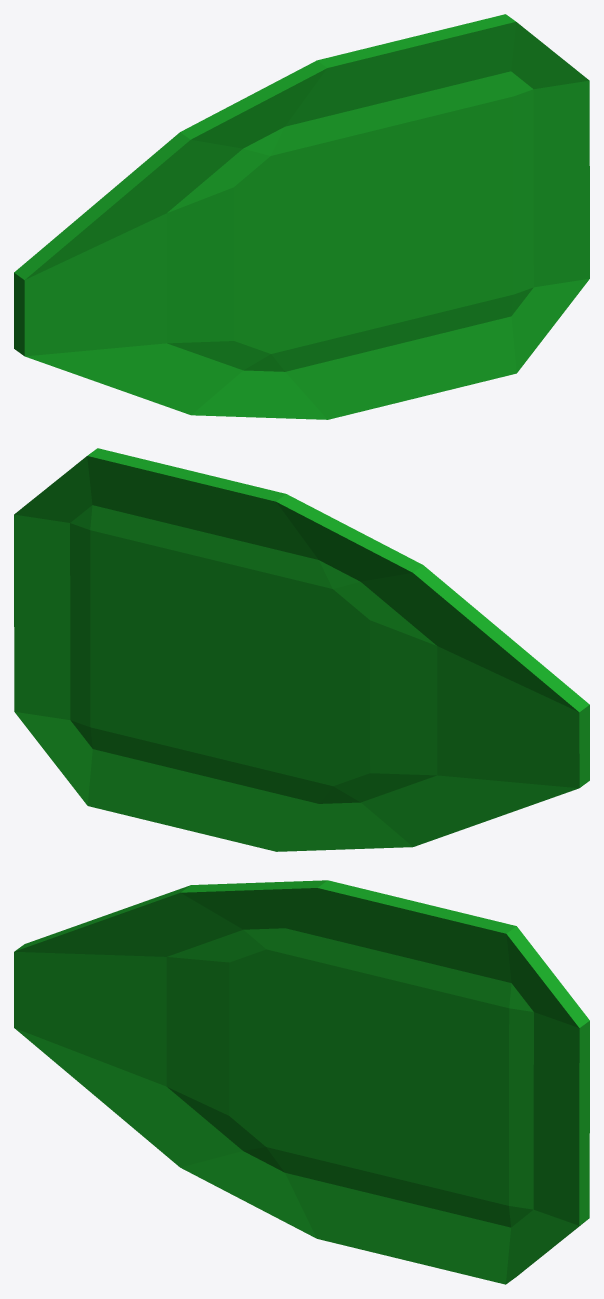
Rendered from leaf.fbx.
The picture shows the model from 3 angles, top to bottom: view 1: azimuth 30°, elevation 25°; view 2: azimuth 150°, elevation 25°; view 3: azimuth 330°, elevation 25°; orthographic projection.
Parts seen in each view (by area): view 1: Leaf; view 2: Leaf; view 3: Leaf.
Boxes of the visible parts, box(x1,y1,x2,y2) form: Leaf: box(14, 14, 589, 419); Leaf: box(14, 448, 589, 851); Leaf: box(14, 880, 589, 1284).
Bounding box in the file's own units: 26.7 × 15.84 × 0.9399.
